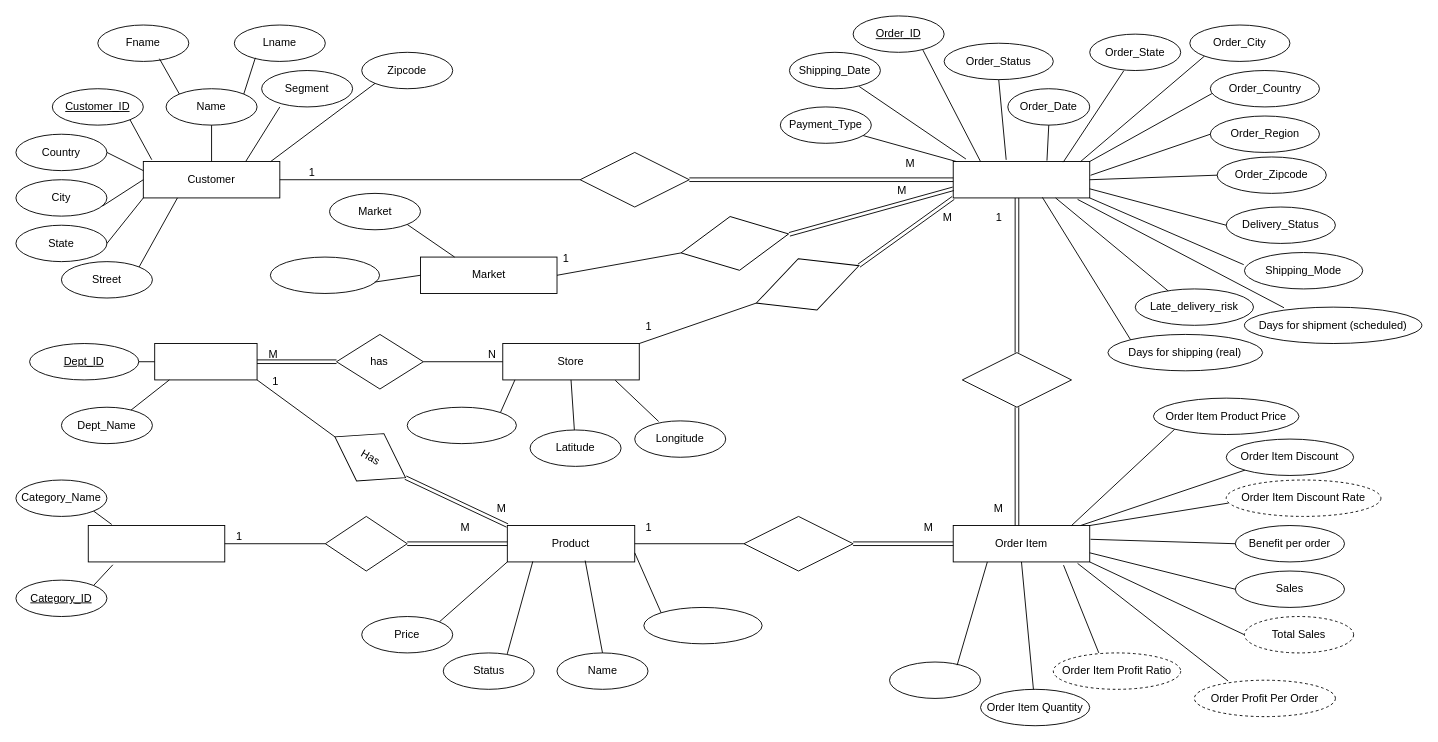
The diagram is 1438 pixels wide and 742 high, and some of its shapes have lost their labels. Each missing label, with the centre of its shape:
Belong To: (365,543)
Category: (156,543)
Contain: (1016,379)
Delivered: (734,243)
Department: (205,361)
ID: (461,425)
Market_ID: (324,274)
Order: (1021,179)
Order_Item_ID: (935,679)
Place: (634,179)
Placed from: (807,284)
Product_Card_ID: (702,625)
Related To: (798,543)
